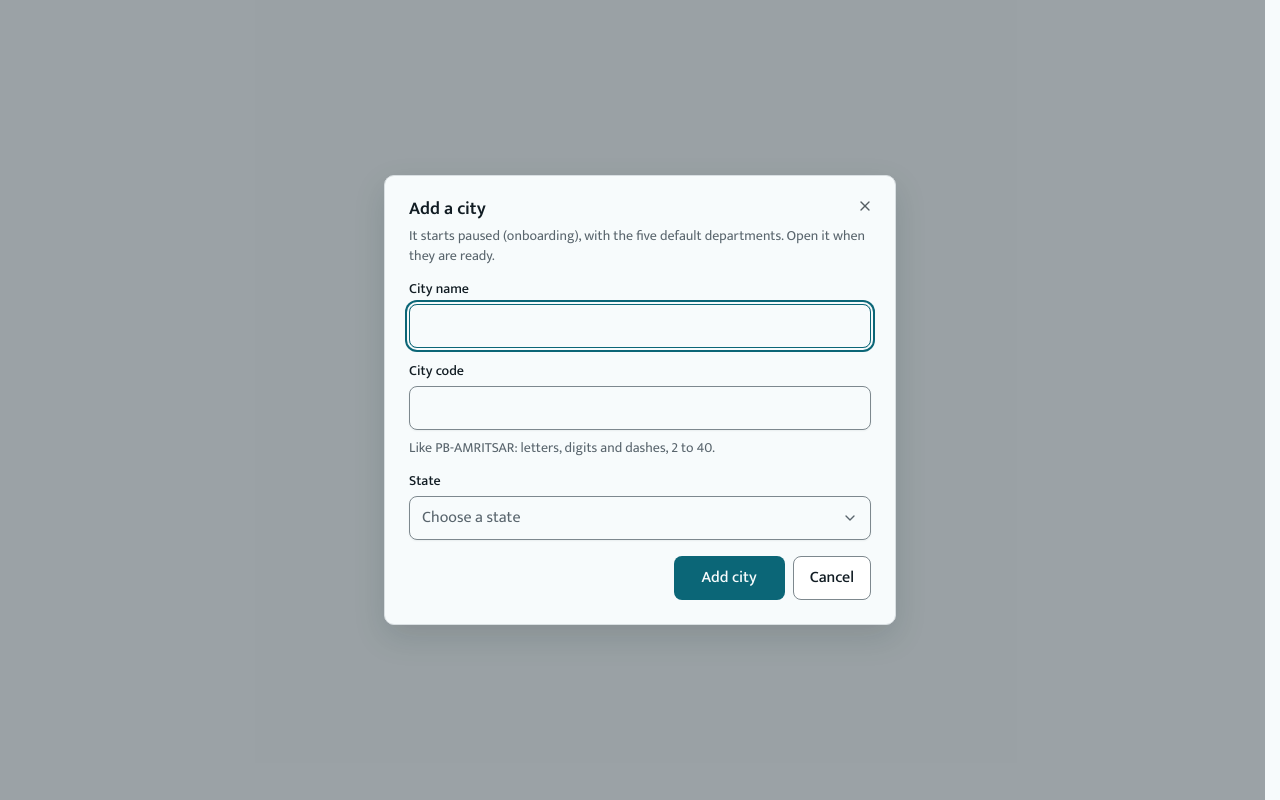
Test: CityFormDialog › upper-cases the code as it is typed
In the field labelled "City code": (640, 408) [409,386,871,430], type "pb jal"
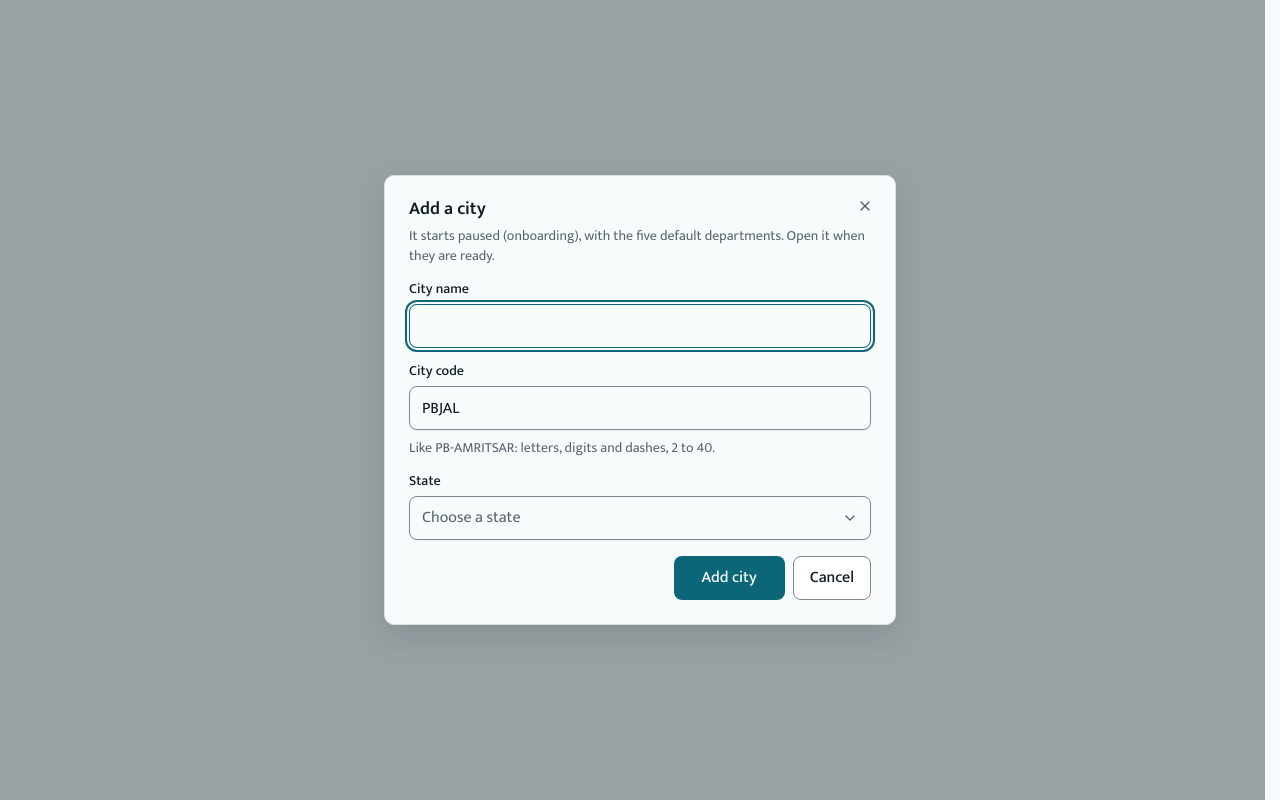
Result: the field labelled "City code" holds "PBJAL" at [409,386,871,430]
